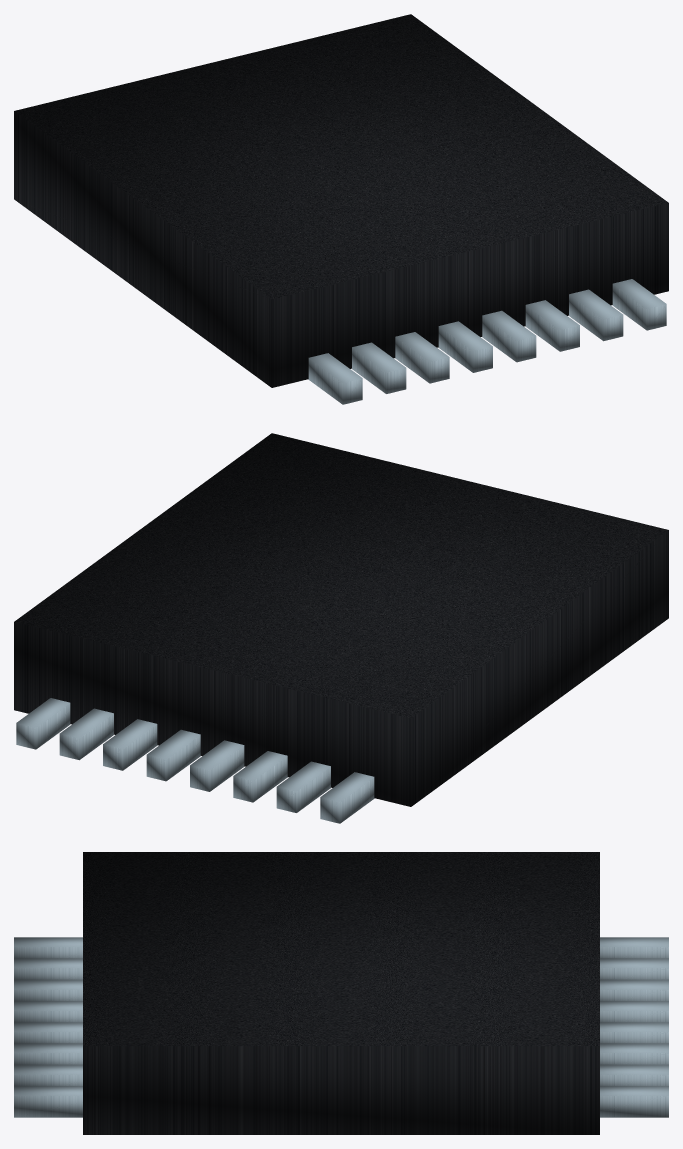
3 renders of one model, top to bottom at view 1: azimuth 30°, elevation 25°; view 2: azimuth 150°, elevation 25°; view 3: azimuth 270°, elevation 25°, orthographic.
Visible parts, largest first — view 1: Epoxy_Package_0__PSMAT__IC_Epoxy, GullWing_1_06_15__PSMAT__Tin_Leads, GullWing_1_05_14__PSMAT__Tin_Leads, GullWing_1_02_11__PSMAT__Tin_Leads, GullWing_1_07_16__PSMAT__Tin_Leads, GullWing_1_04_13__PSMAT__Tin_Leads, GullWing_1_03_12__PSMAT__Tin_Leads, GullWing_1_00_9__PSMAT__Tin_Leads, GullWing_1_01_10__PSMAT__Tin_Leads; view 2: Epoxy_Package_0__PSMAT__IC_Epoxy, GullWing__1_06_7__PSMAT__Tin_Leads, GullWing__1_05_6__PSMAT__Tin_Leads, GullWing__1_02_3__PSMAT__Tin_Leads, GullWing__1_07_8__PSMAT__Tin_Leads, GullWing__1_04_5__PSMAT__Tin_Leads, GullWing__1_03_4__PSMAT__Tin_Leads, GullWing__1_00_1__PSMAT__Tin_Leads, GullWing__1_01_2__PSMAT__Tin_Leads; view 3: Epoxy_Package_0__PSMAT__IC_Epoxy, GullWing_1_07_16__PSMAT__Tin_Leads, GullWing__1_07_8__PSMAT__Tin_Leads, GullWing_1_06_15__PSMAT__Tin_Leads, GullWing_1_05_14__PSMAT__Tin_Leads, GullWing_1_04_13__PSMAT__Tin_Leads, GullWing_1_03_12__PSMAT__Tin_Leads, GullWing_1_02_11__PSMAT__Tin_Leads, GullWing_1_01_10__PSMAT__Tin_Leads, GullWing_1_00_9__PSMAT__Tin_Leads, GullWing__1_06_7__PSMAT__Tin_Leads, GullWing__1_05_6__PSMAT__Tin_Leads (+5 smaller).
Boxes of the visible parts, bbox=[...] form: Epoxy_Package_0__PSMAT__IC_Epoxy: bbox=[14, 14, 668, 387]; GullWing_1_06_15__PSMAT__Tin_Leads: bbox=[569, 289, 623, 341]; GullWing_1_05_14__PSMAT__Tin_Leads: bbox=[525, 300, 579, 351]; GullWing_1_02_11__PSMAT__Tin_Leads: bbox=[395, 332, 449, 383]; GullWing_1_07_16__PSMAT__Tin_Leads: bbox=[612, 279, 666, 330]; GullWing_1_04_13__PSMAT__Tin_Leads: bbox=[482, 310, 536, 362]; GullWing_1_03_12__PSMAT__Tin_Leads: bbox=[438, 321, 492, 372]; GullWing_1_00_9__PSMAT__Tin_Leads: bbox=[308, 353, 362, 404]; GullWing_1_01_10__PSMAT__Tin_Leads: bbox=[352, 342, 406, 393]; Epoxy_Package_0__PSMAT__IC_Epoxy: bbox=[14, 433, 668, 806]; GullWing__1_06_7__PSMAT__Tin_Leads: bbox=[59, 708, 113, 760]; GullWing__1_05_6__PSMAT__Tin_Leads: bbox=[103, 719, 157, 770]; GullWing__1_02_3__PSMAT__Tin_Leads: bbox=[233, 751, 287, 802]; GullWing__1_07_8__PSMAT__Tin_Leads: bbox=[16, 698, 70, 749]; GullWing__1_04_5__PSMAT__Tin_Leads: bbox=[146, 729, 200, 781]; GullWing__1_03_4__PSMAT__Tin_Leads: bbox=[190, 740, 244, 791]; GullWing__1_00_1__PSMAT__Tin_Leads: bbox=[320, 772, 374, 823]; GullWing__1_01_2__PSMAT__Tin_Leads: bbox=[276, 761, 330, 812]; Epoxy_Package_0__PSMAT__IC_Epoxy: bbox=[83, 852, 599, 1134]; GullWing_1_07_16__PSMAT__Tin_Leads: bbox=[14, 1086, 82, 1117]; GullWing__1_07_8__PSMAT__Tin_Leads: bbox=[600, 1086, 668, 1117]; GullWing_1_06_15__PSMAT__Tin_Leads: bbox=[14, 1064, 82, 1085]; GullWing_1_05_14__PSMAT__Tin_Leads: bbox=[14, 1043, 82, 1064]; GullWing_1_04_13__PSMAT__Tin_Leads: bbox=[14, 1022, 82, 1043]; GullWing_1_03_12__PSMAT__Tin_Leads: bbox=[14, 1001, 82, 1022]; GullWing_1_02_11__PSMAT__Tin_Leads: bbox=[14, 979, 82, 1000]; GullWing_1_01_10__PSMAT__Tin_Leads: bbox=[14, 958, 82, 979]; GullWing_1_00_9__PSMAT__Tin_Leads: bbox=[14, 937, 82, 958]; GullWing__1_06_7__PSMAT__Tin_Leads: bbox=[600, 1064, 668, 1085]; GullWing__1_05_6__PSMAT__Tin_Leads: bbox=[600, 1043, 668, 1064].
Size of the model in its own units: 0.008 by 0.00171 by 0.0114.
